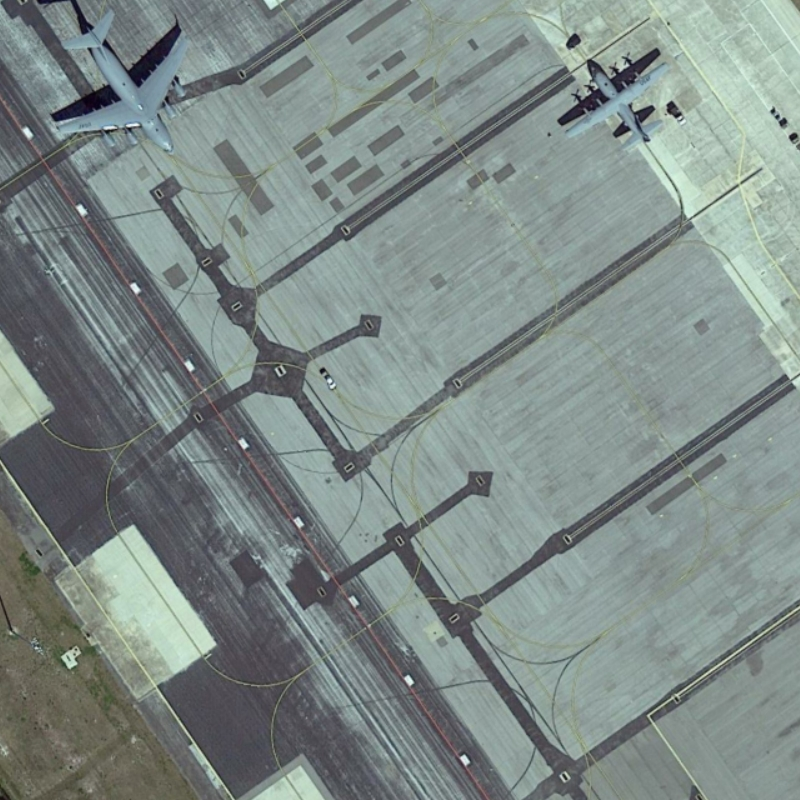A2: (560, 56, 670, 156)
A3: (50, 8, 194, 159)
